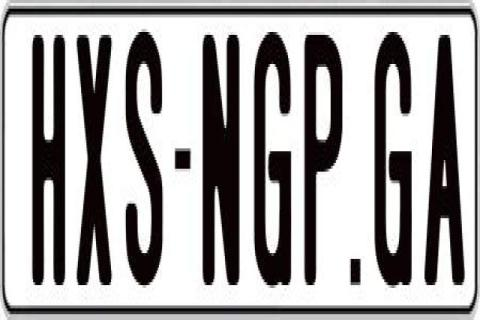A: (424, 35, 464, 303)
G: (252, 24, 296, 288), (374, 24, 414, 282)
H: (31, 26, 68, 291)
N: (204, 32, 242, 294)
P: (302, 35, 344, 297)
S: (125, 32, 166, 288)
X: (76, 32, 113, 285)
